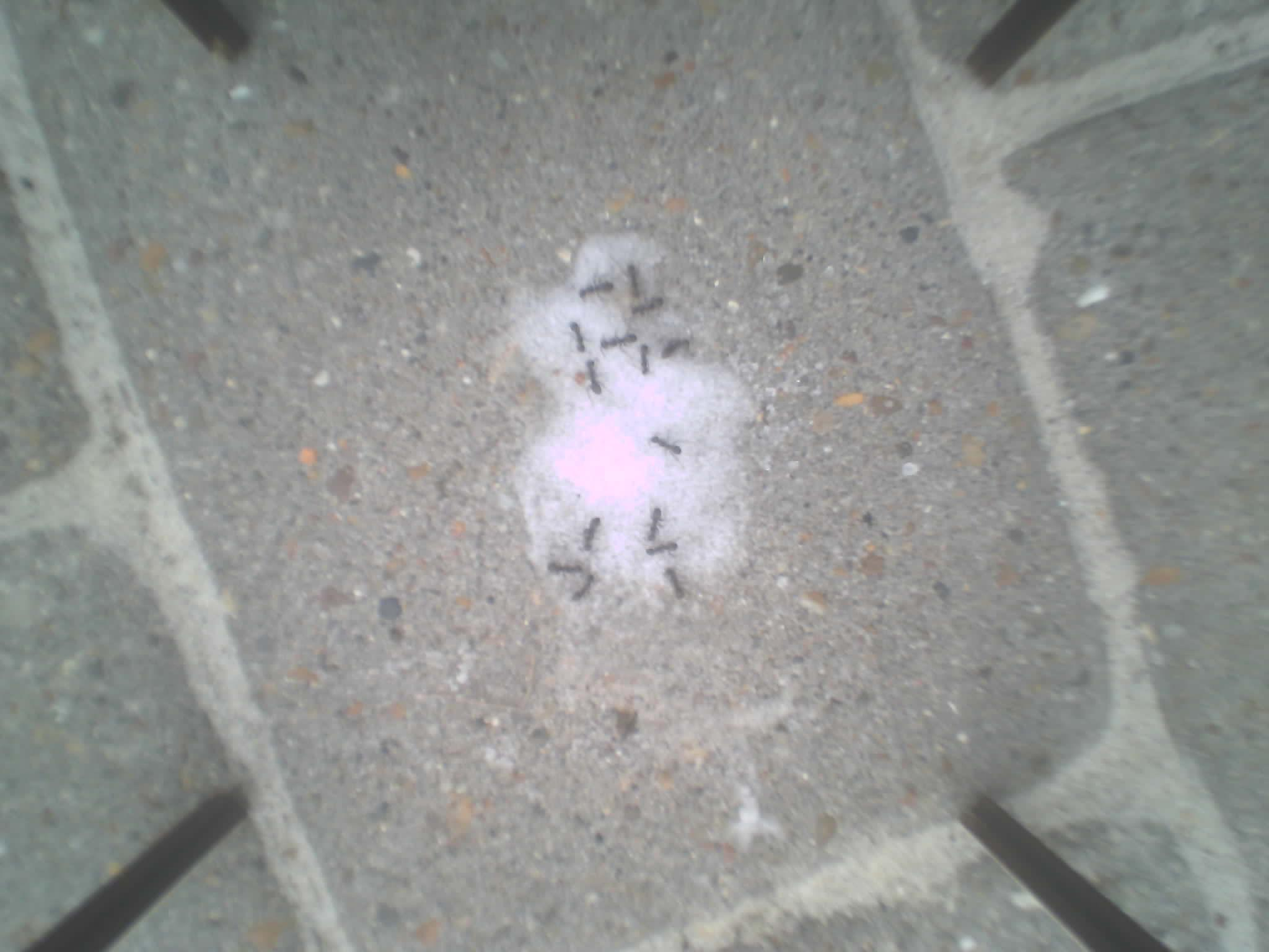Ant: (642, 427, 691, 467), (571, 268, 621, 307), (574, 510, 608, 562), (657, 557, 692, 606), (558, 314, 593, 361), (640, 498, 670, 547), (578, 356, 609, 399), (634, 338, 661, 381), (621, 255, 645, 303), (596, 328, 642, 353), (656, 333, 695, 362), (628, 294, 668, 318), (569, 571, 597, 605), (545, 558, 585, 581), (642, 538, 683, 560)
